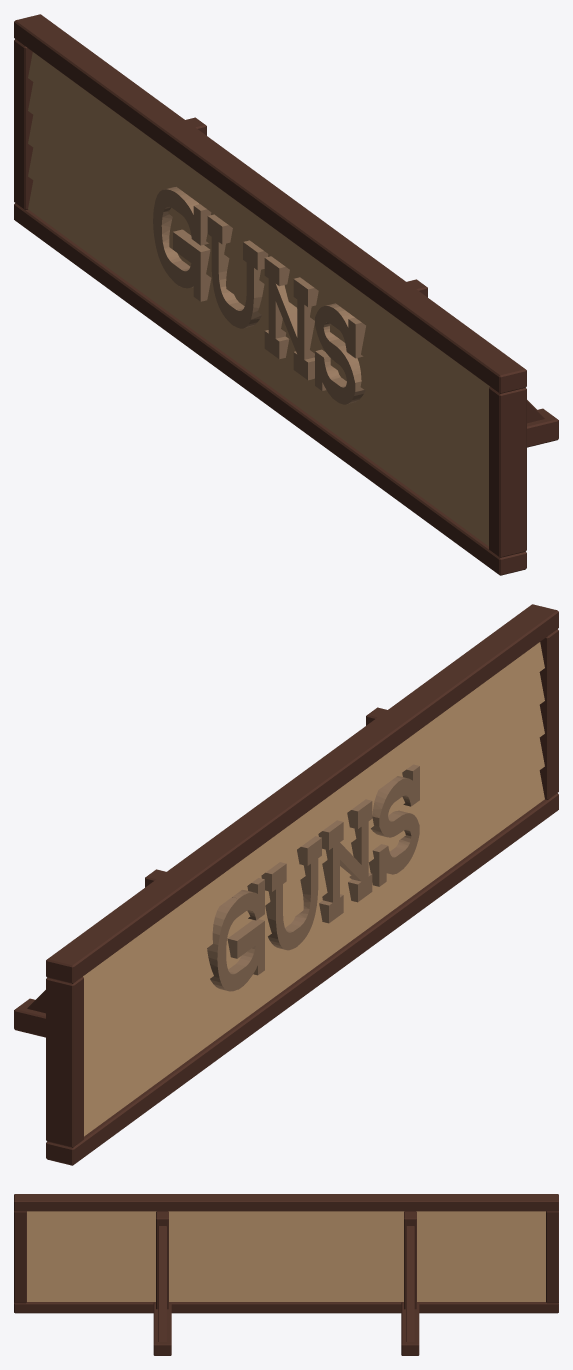
File: gun-sign-a.glb
3 renders of one model, top to bottom at view 1: azimuth 30°, elevation 25°; view 2: azimuth 150°, elevation 25°; view 3: azimuth 270°, elevation 25°, orthographic. The views are drawn at different scales.
Parts seen in each view (by area): view 1: Gun Sign A (×3); view 2: Gun Sign A (×3); view 3: Gun Sign A (×2).
Part boxes in pixels (x1,y1,x2,y2): Gun Sign A (×3): (14, 14, 558, 575); Gun Sign A (×3): (14, 604, 558, 1165); Gun Sign A (×2): (14, 1194, 558, 1355).
Bounding box in the file's own units: 1.46 × 1.5 × 6.6.
